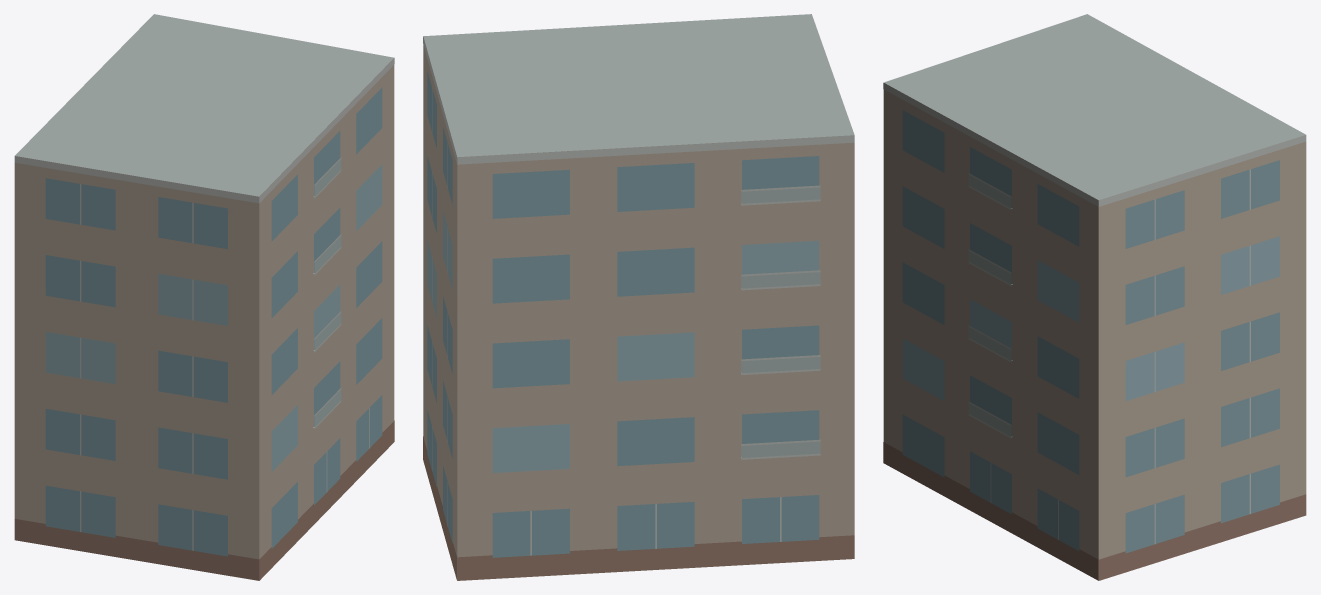
The model's file is survey-upis-32958171.glb.
3 views of the same model, side by side, from view 1: azimuth 30°, elevation 25°; view 2: azimuth 150°, elevation 25°; view 3: azimuth 270°, elevation 25° (orthographic). The views are drawn at different scales.
Parts seen in each view (by area): view 1: survey-upis-32958171.tmp; view 2: survey-upis-32958171.tmp; view 3: survey-upis-32958171.tmp.
Boxes of the visible parts, box(x1,y1,x2,y2) form: survey-upis-32958171.tmp: box(14, 14, 394, 580); survey-upis-32958171.tmp: box(423, 14, 854, 580); survey-upis-32958171.tmp: box(883, 14, 1306, 580).
Bounding box in the file's own units: 14.6 × 13.9 × 14.
